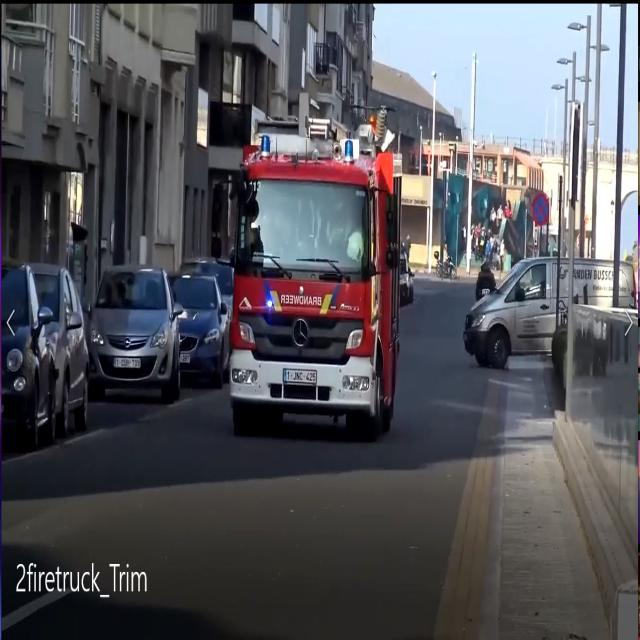emergency: (220, 124, 407, 446)
